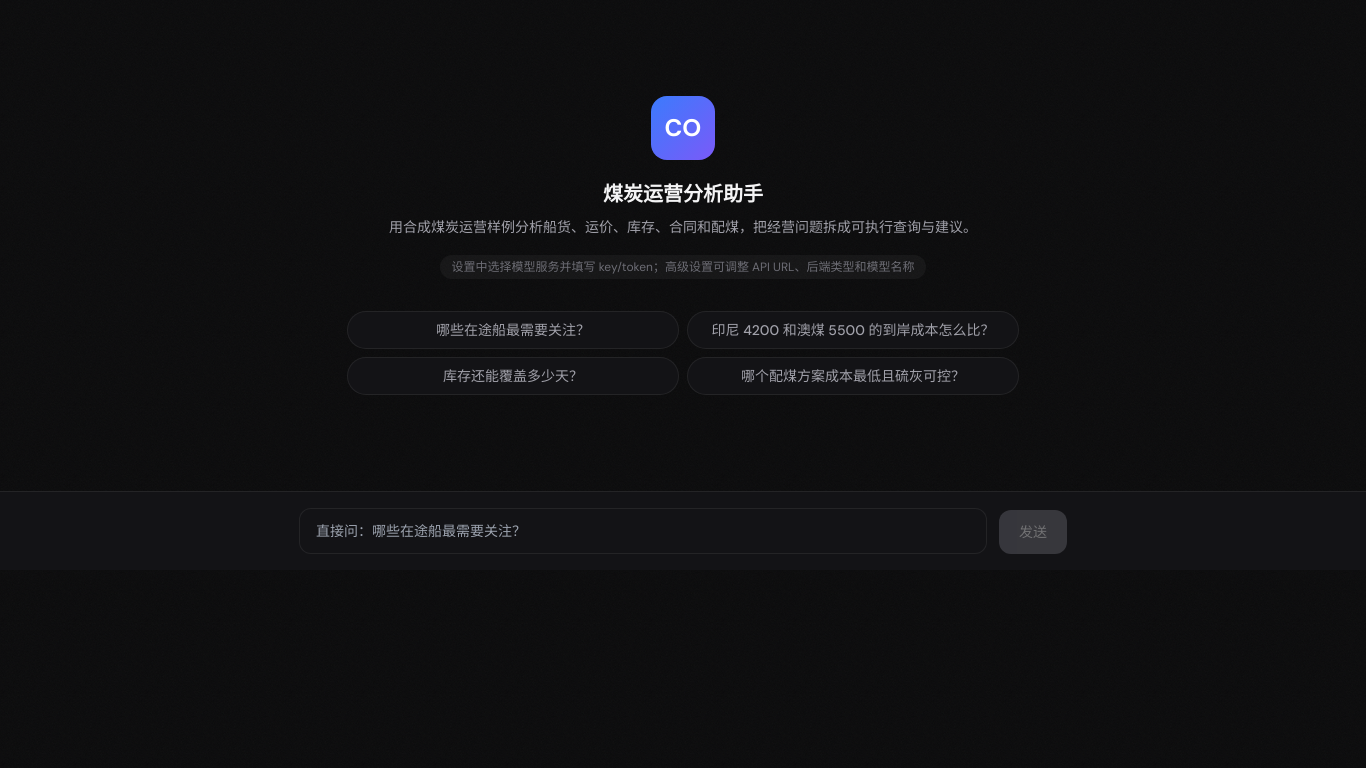
Test: ChatPanel request cancellation › passes an AbortSignal to fetch and exposes a stop button while loading
In the text box with placeholder "直接问：哪些在途船最需要关注？": (643, 531) [299,508,987,554], type "测试取消"
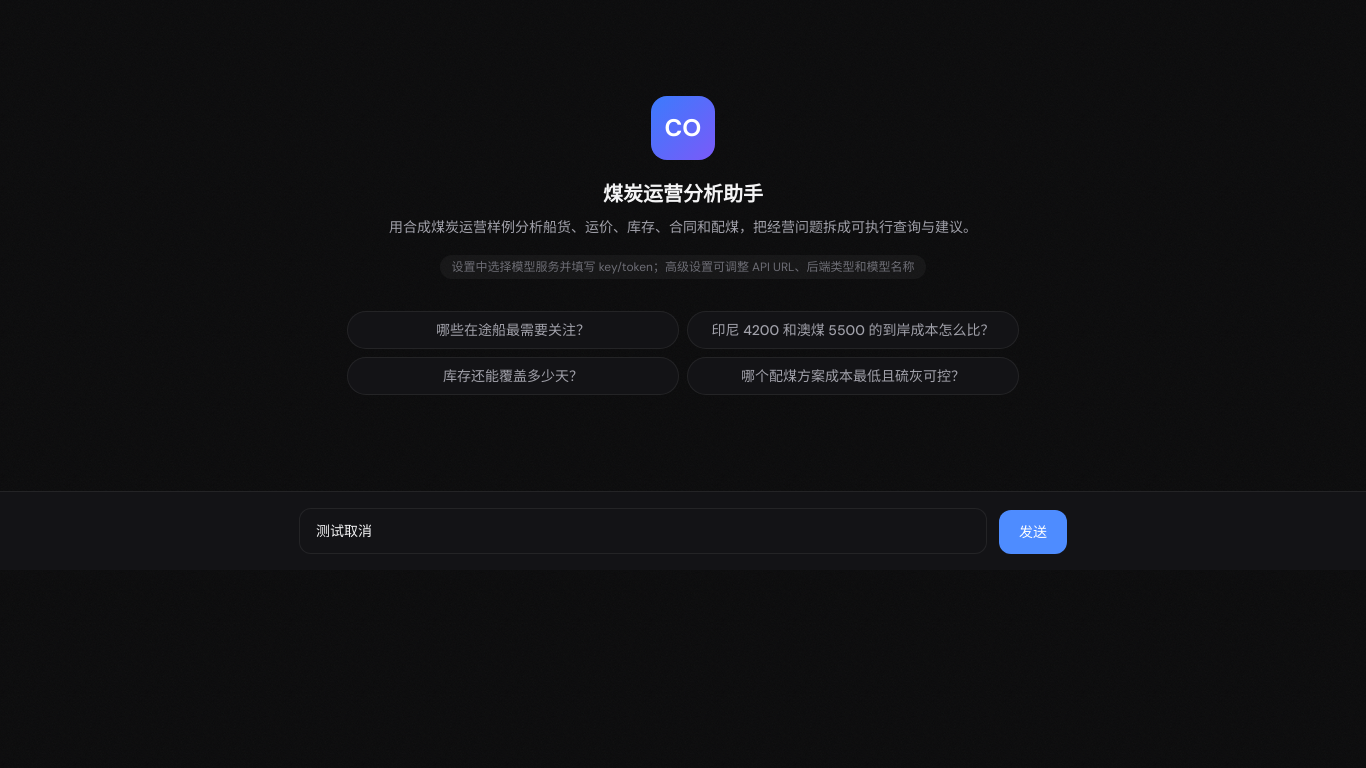
Submit the form, box [299,508,1067,554]
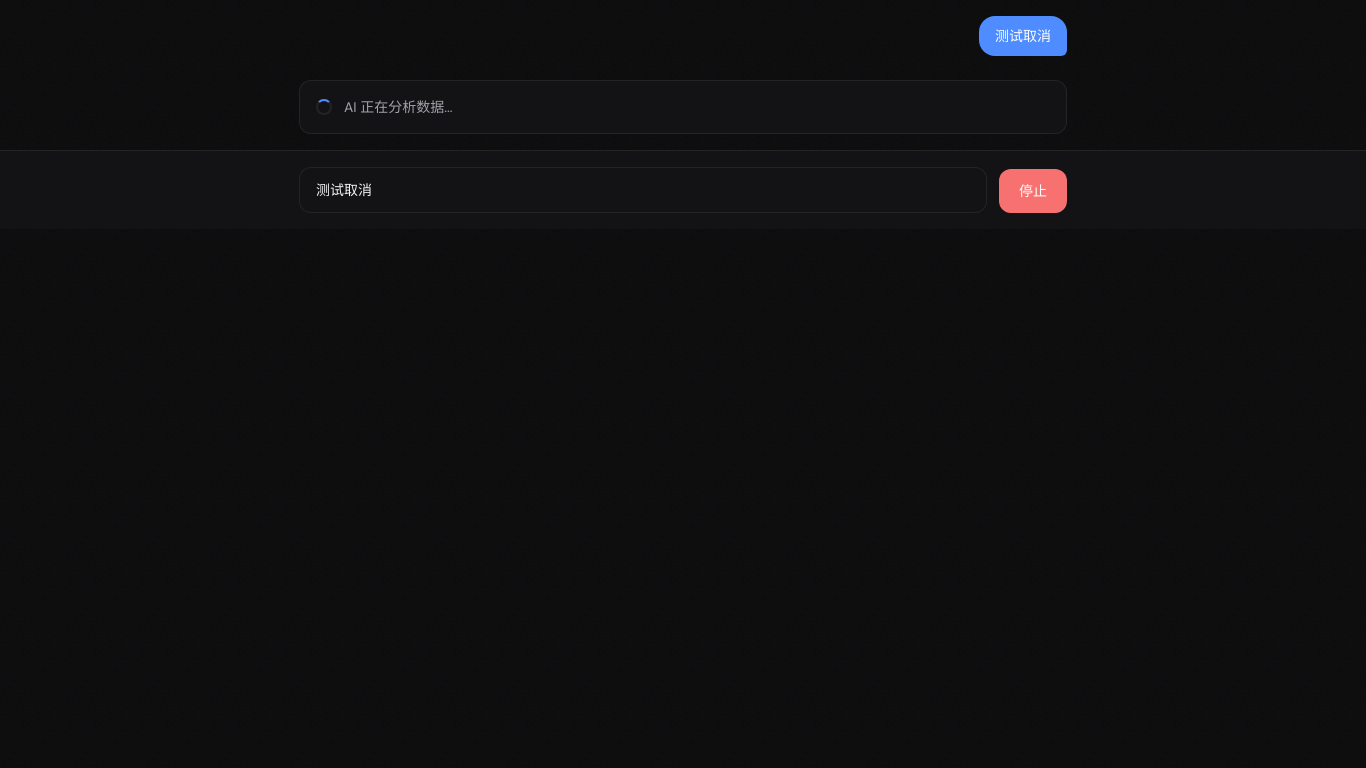
Expected: the button "停止" is shown, [999,169,1067,213]
Expected: the text box named "消息输入" is disabled, [299,167,987,213]
